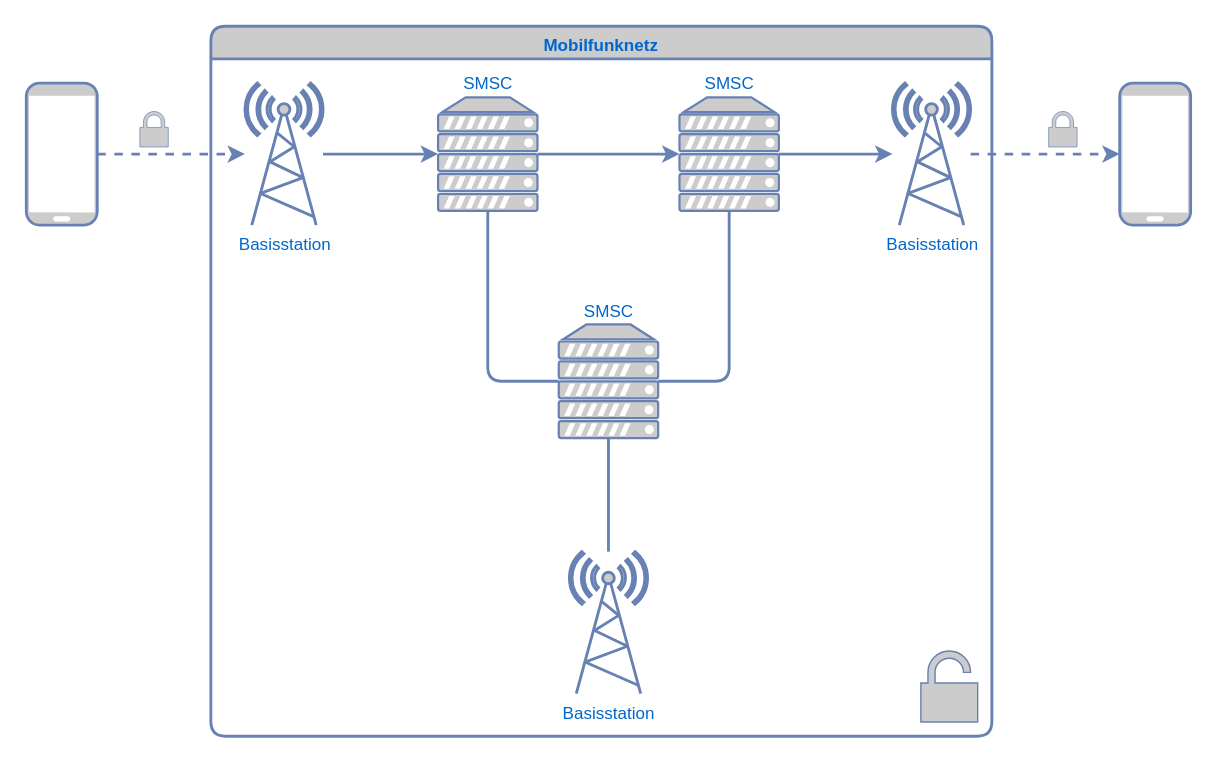
Some shapes in this 1221 by 761 pixel diagram are drawn without their labels. The shapes that lost their labels are listed below. From the top down, each one's centre as x and y in pixels, then its label:
pixel 61 153: Sender
pixel 1154 153: Empfänger
